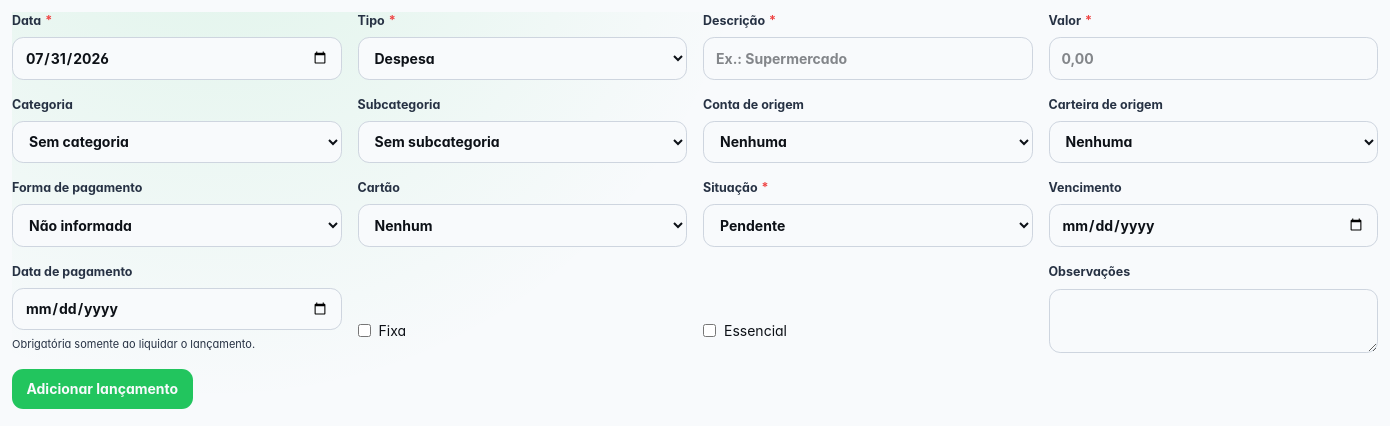
it: formulário de lançamento › exige a data somente quando a receita é marcada como recebida
The image size is (1390, 426).
Select "Receita" in the dropdown labelled "Tipo*" at (522, 58), box left=358, top=37, right=687, bottom=80
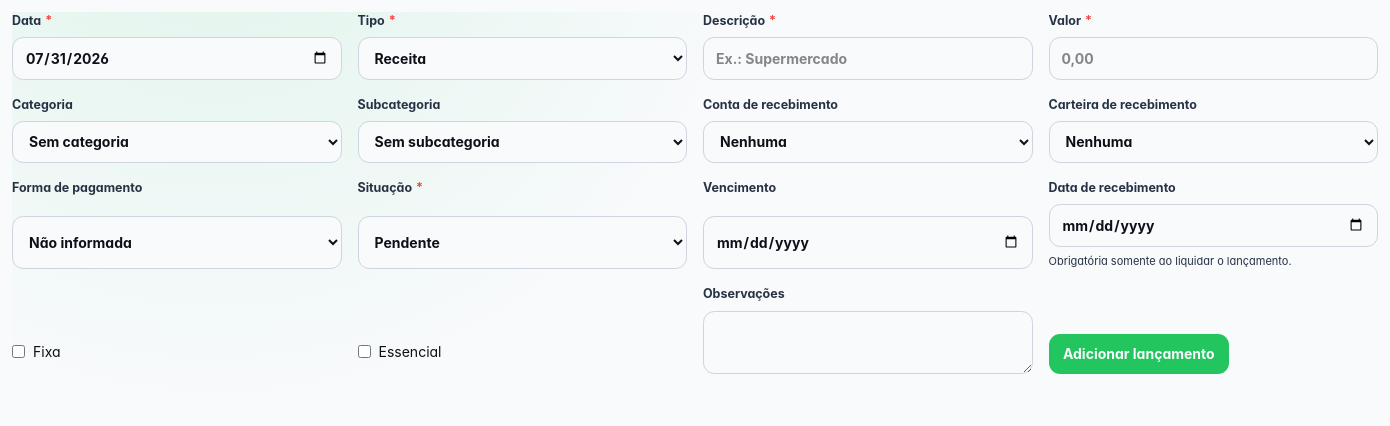
Select "Recebido" in the dropdown labelled "Situação*" at (522, 242), box left=358, top=216, right=687, bottom=269
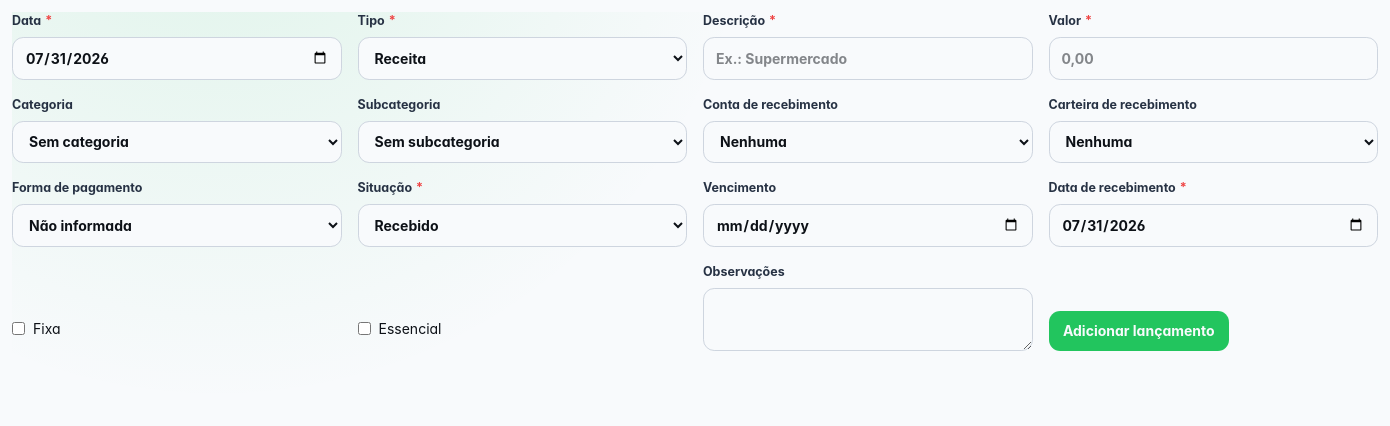
Check: the label labelled "Data de recebimento*" is shown, box left=1048, top=179, right=1378, bottom=246
